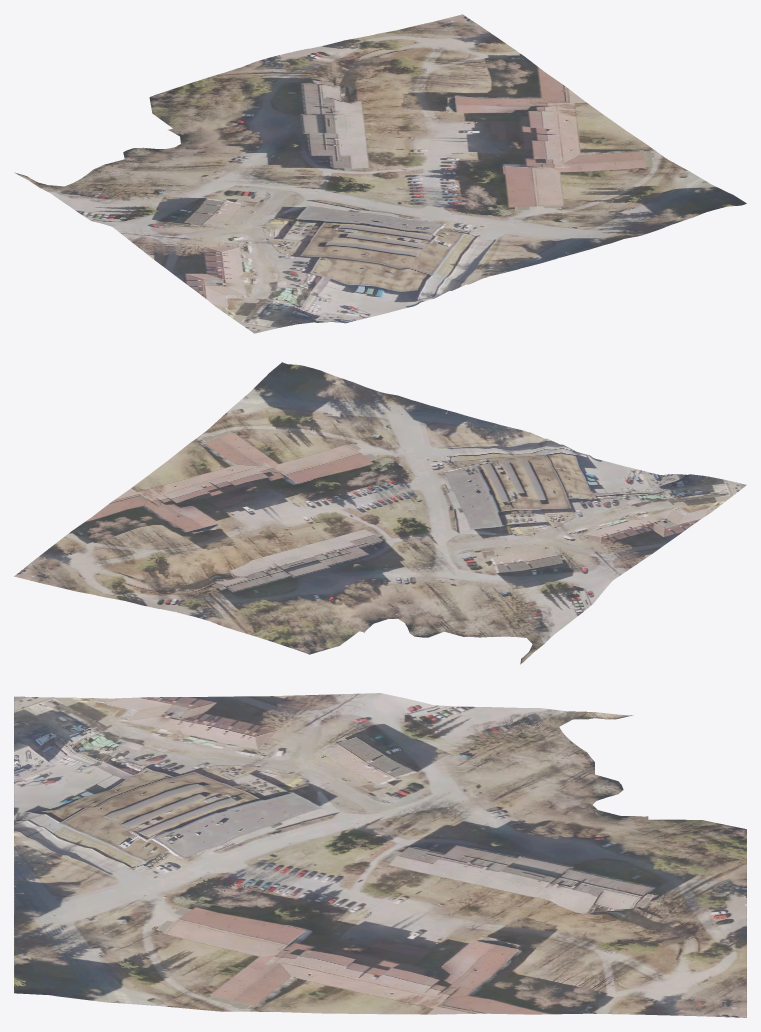
File: CM_Terrain_24488206_6822660.fbx
The picture shows the model from 3 angles, top to bottom: view 1: azimuth 30°, elevation 25°; view 2: azimuth 150°, elevation 25°; view 3: azimuth 270°, elevation 25°; orthographic projection. The views are drawn at different scales.
Parts seen in each view (by area): view 1: CM_Terrain_24488206_6822660_LOD0; view 2: CM_Terrain_24488206_6822660_LOD0; view 3: CM_Terrain_24488206_6822660_LOD0.
Boxes of the visible parts, left/top/right/bottom form: CM_Terrain_24488206_6822660_LOD0: left=14, top=14, right=746, bottom=333; CM_Terrain_24488206_6822660_LOD0: left=14, top=362, right=746, bottom=664; CM_Terrain_24488206_6822660_LOD0: left=14, top=693, right=746, bottom=1017.
Size of what is drawn, in the model's own units: 205 by 10.94 by 205.
